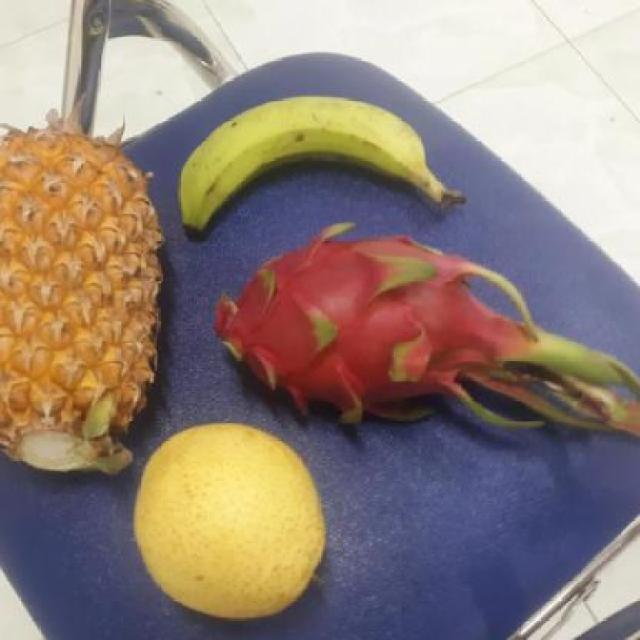banana: (164, 99, 438, 236)
dragon fruit: (192, 225, 502, 429)
pear: (123, 418, 325, 618)
pineapple: (0, 126, 166, 479)
